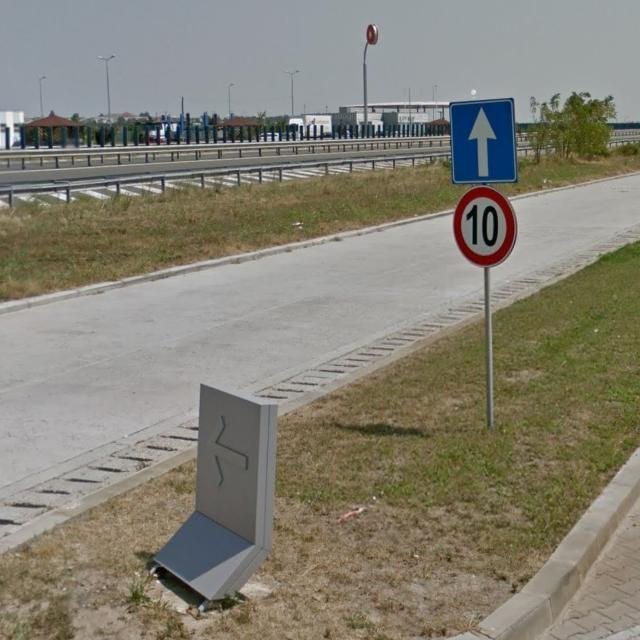forb_speed_over_10: (453, 186, 517, 268)
